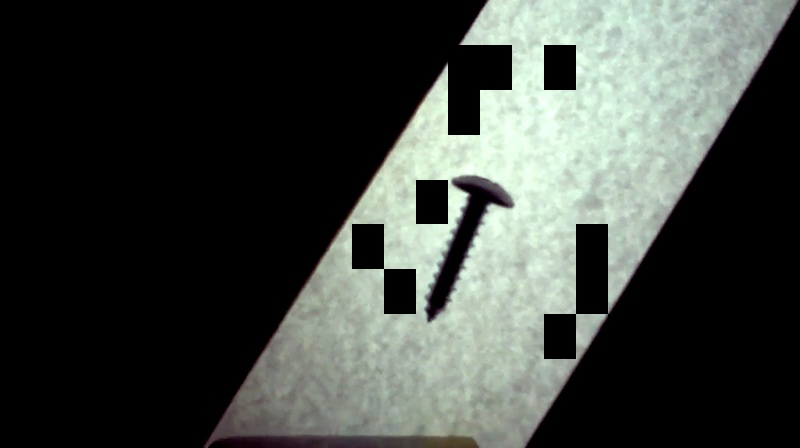S003: (422, 172, 517, 322)
